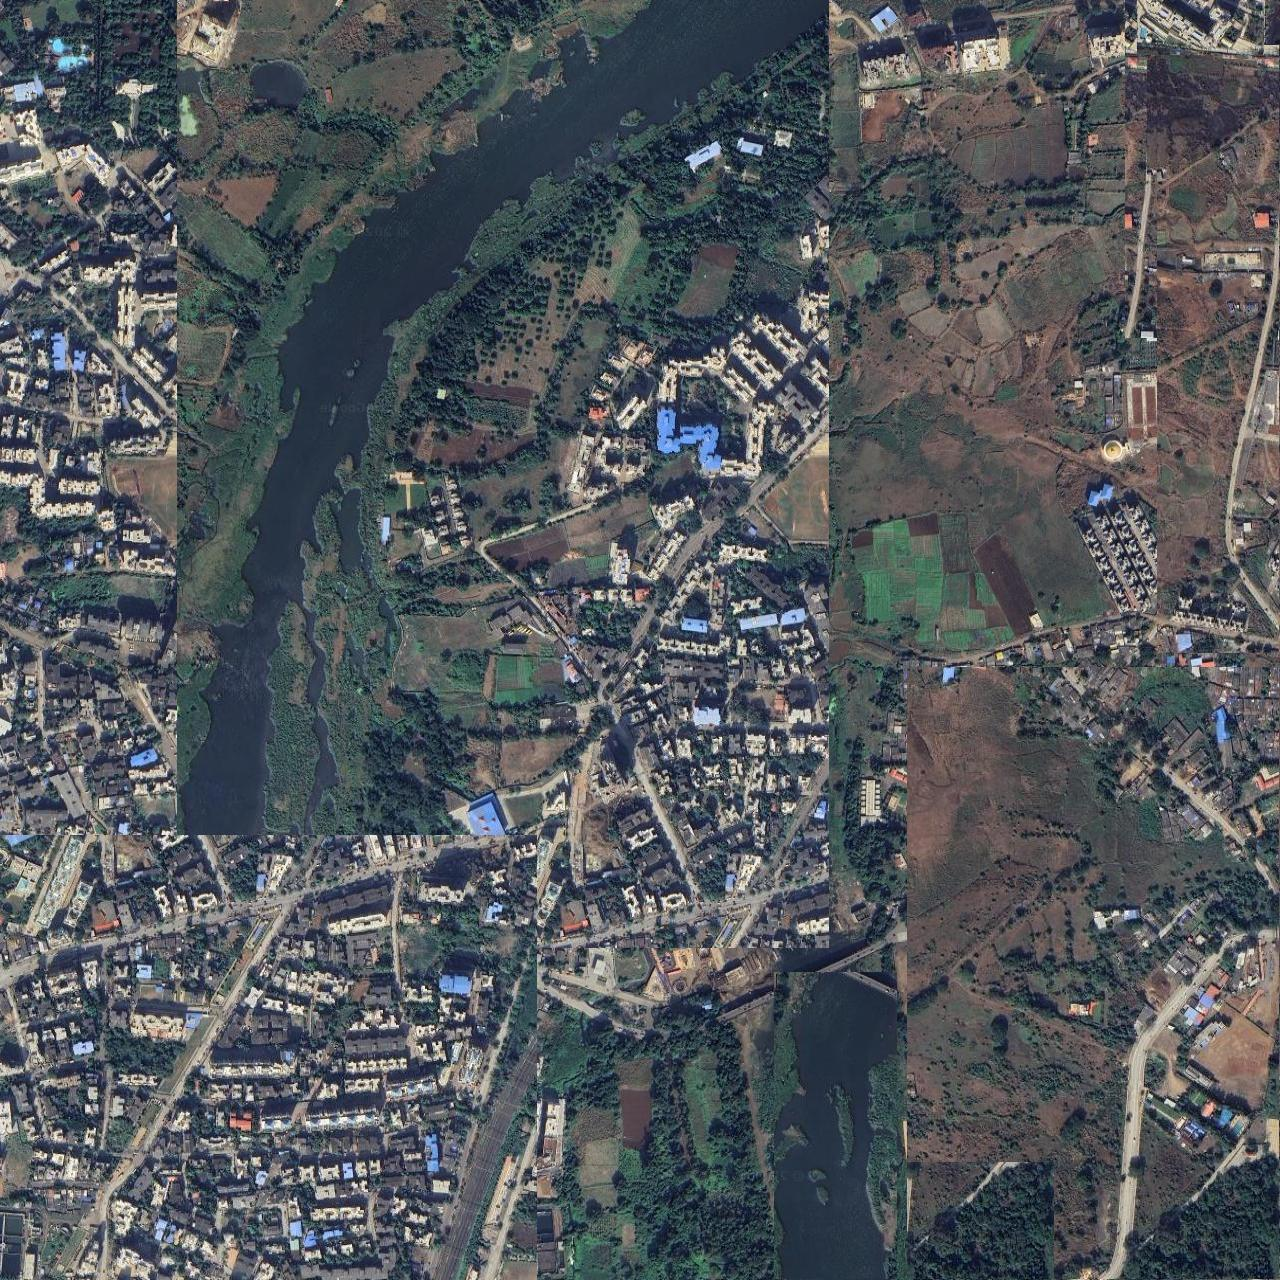greenery: (425, 0, 1135, 714), (445, 470, 783, 1280), (907, 667, 1279, 1279), (110, 5, 605, 464), (1158, 60, 1279, 653), (885, 945, 1040, 1138), (907, 1163, 1054, 1280), (1148, 45, 1279, 175), (1125, 0, 1175, 338), (1138, 0, 1264, 55)
house: (0, 86, 406, 918), (0, 835, 537, 1280)
water: (178, 0, 829, 948), (775, 973, 897, 1280)
